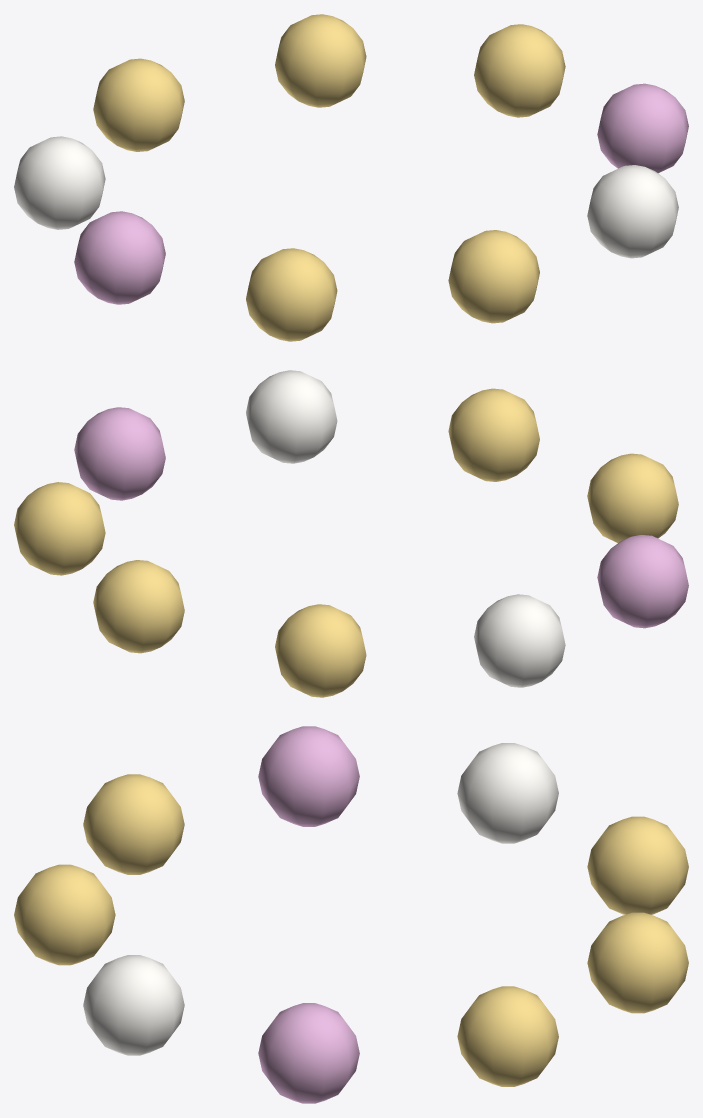
The model's file is Acc_Flowers.fbx.
3 views of the same model, one above another, from view 1: azimuth 30°, elevation 25°; view 2: azimuth 150°, elevation 25°; view 3: azimuth 270°, elevation 25° (orthographic). The views are drawn at different scales.
Visible parts, largest first — view 1: Flower_Crown.006, Flower_Crown.008, Flower_Crown.005, Flower_Crown.001, Flower_Crown, Flower_Crown.004, Flower_Crown.007, Flower_Crown.003, Flower_Crown.002; view 2: Flower_Crown.002, Flower_Crown, Flower_Crown.003, Flower_Crown.007, Flower_Crown.004, Flower_Crown.008, Flower_Crown.001, Flower_Crown.006, Flower_Crown.005; view 3: Flower_Crown, Flower_Crown.004, Flower_Crown.002, Flower_Crown.006, Flower_Crown.001, Flower_Crown.007, Flower_Crown.003, Flower_Crown.005, Flower_Crown.008.
Boxes of the visible parts, x1,y1,x2,y2 form: Flower_Crown.006: [74, 211, 165, 304]; Flower_Crown.008: [93, 58, 184, 151]; Flower_Crown.005: [246, 248, 337, 341]; Flower_Crown.001: [474, 24, 565, 117]; Flower_Crown: [275, 14, 366, 107]; Flower_Crown.004: [448, 230, 539, 323]; Flower_Crown.007: [14, 136, 105, 229]; Flower_Crown.003: [587, 165, 678, 258]; Flower_Crown.002: [597, 83, 688, 173]; Flower_Crown.002: [74, 407, 165, 500]; Flower_Crown: [93, 560, 184, 653]; Flower_Crown.003: [246, 370, 337, 463]; Flower_Crown.007: [474, 594, 565, 687]; Flower_Crown.004: [448, 388, 539, 481]; Flower_Crown.008: [275, 604, 366, 697]; Flower_Crown.001: [14, 482, 105, 575]; Flower_Crown.006: [597, 535, 688, 628]; Flower_Crown.005: [587, 453, 678, 542]; Flower_Crown: [587, 912, 688, 1013]; Flower_Crown.004: [14, 864, 115, 965]; Flower_Crown.002: [258, 1003, 359, 1103]; Flower_Crown.006: [258, 726, 359, 826]; Flower_Crown.001: [457, 986, 558, 1086]; Flower_Crown.007: [457, 743, 558, 843]; Flower_Crown.003: [83, 955, 184, 1055]; Flower_Crown.005: [83, 774, 184, 874]; Flower_Crown.008: [587, 816, 688, 914].
Size of the model in its own units: 81.37 by 11 by 73.07.
